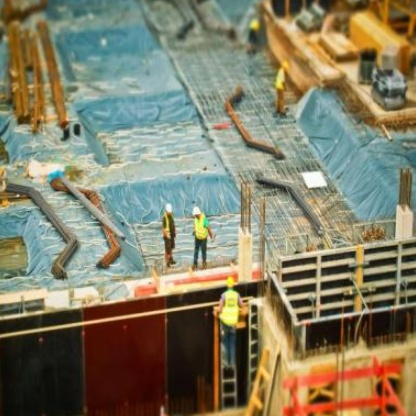vest: (218, 287, 243, 329), (192, 211, 211, 240)
white: (191, 205, 203, 219), (164, 203, 173, 215)
yellow: (224, 274, 236, 287)
